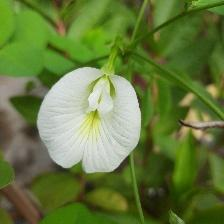shankupushpam: (35, 59, 148, 176)
